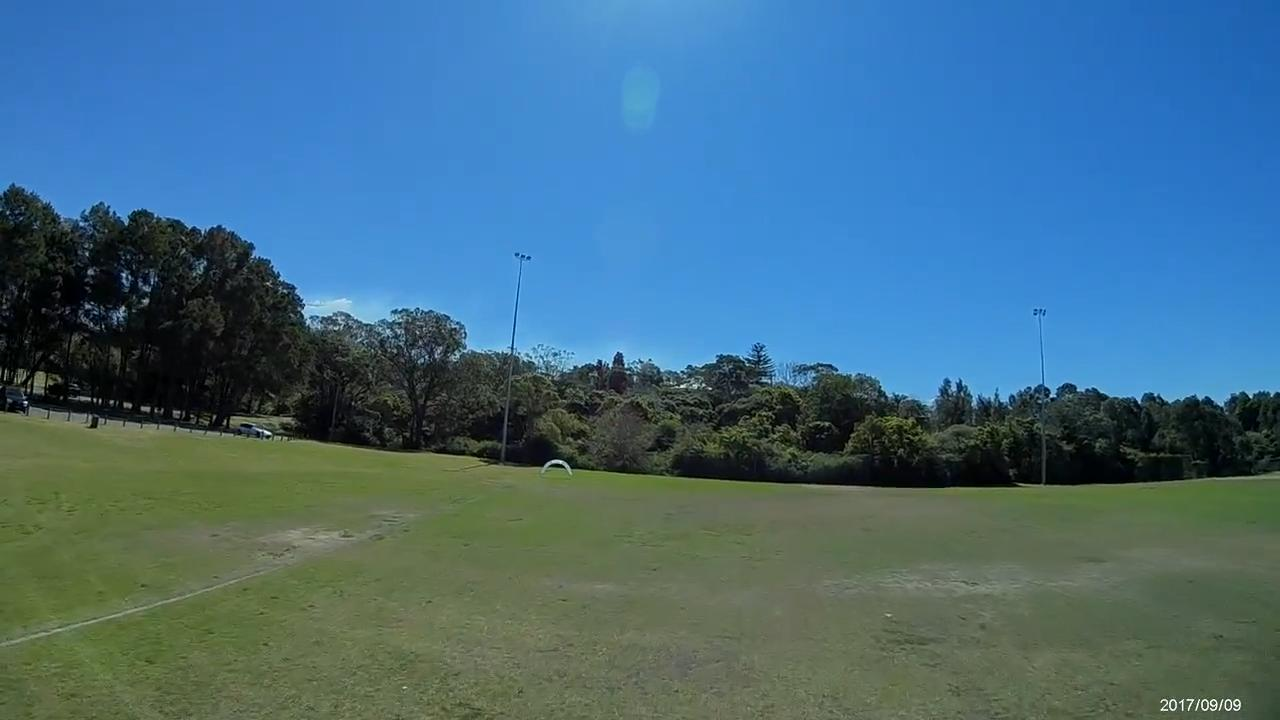gate: (540, 458, 570, 480)
